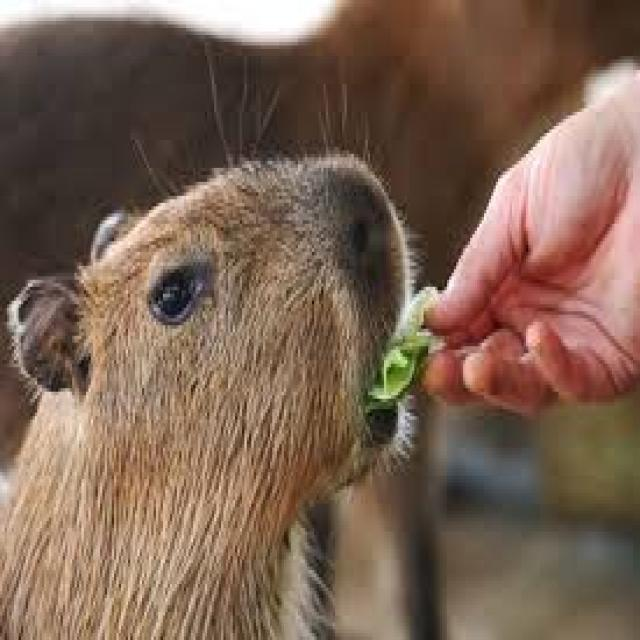capy: (0, 147, 410, 640)
